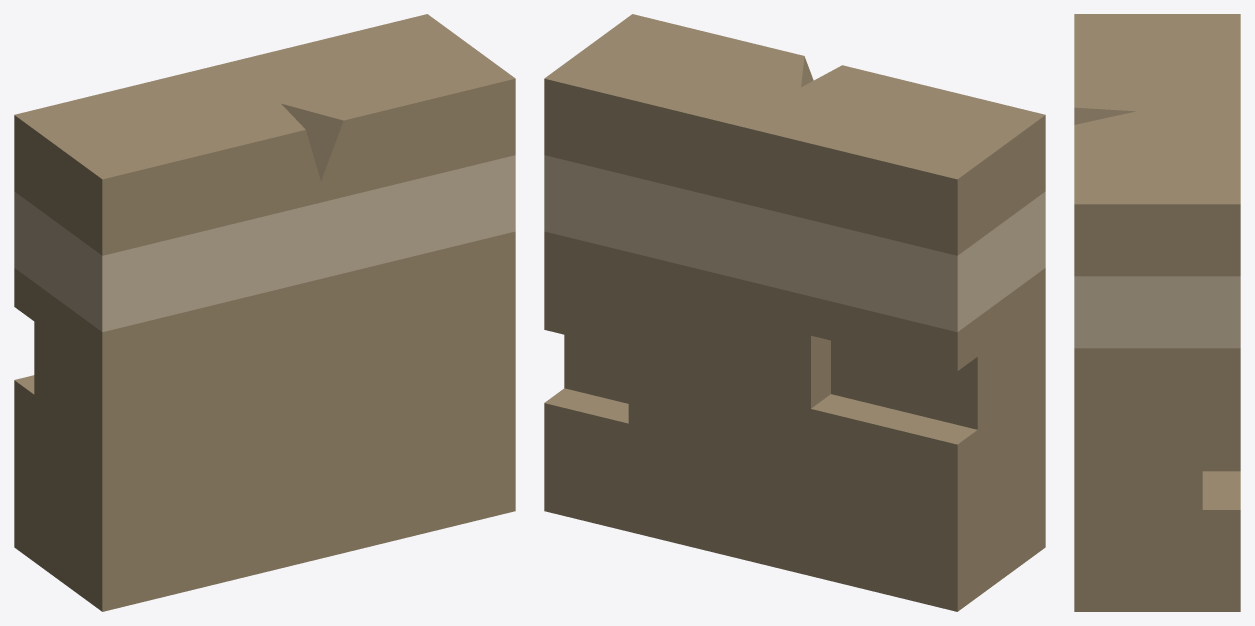
Rendered from DarkSandStoneWallMediumPlinth2.fbx.
3 renders of one model, left to right at view 1: azimuth 30°, elevation 25°; view 2: azimuth 150°, elevation 25°; view 3: azimuth 270°, elevation 25°, orthographic. The views are drawn at different scales.
Parts seen in each view (by area): view 1: DarkSandStoneWallMediumPlinth2; view 2: DarkSandStoneWallMediumPlinth2; view 3: DarkSandStoneWallMediumPlinth2.
Boxes of the visible parts, bbox=[...] form: DarkSandStoneWallMediumPlinth2: bbox=[14, 14, 515, 611]; DarkSandStoneWallMediumPlinth2: bbox=[544, 14, 1045, 611]; DarkSandStoneWallMediumPlinth2: bbox=[1074, 14, 1240, 611].
Bounding box in the file's own units: 5 × 5 × 1.85.
